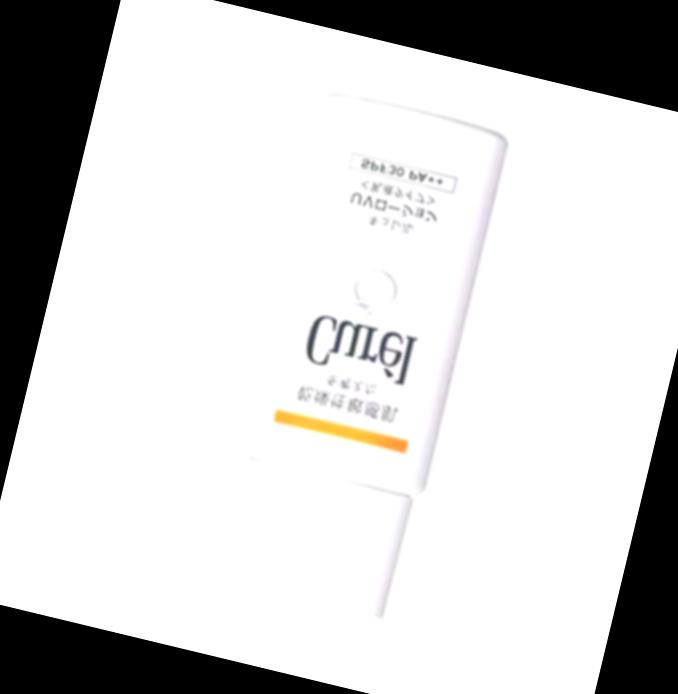cosmetic: (205, 93, 509, 627)
